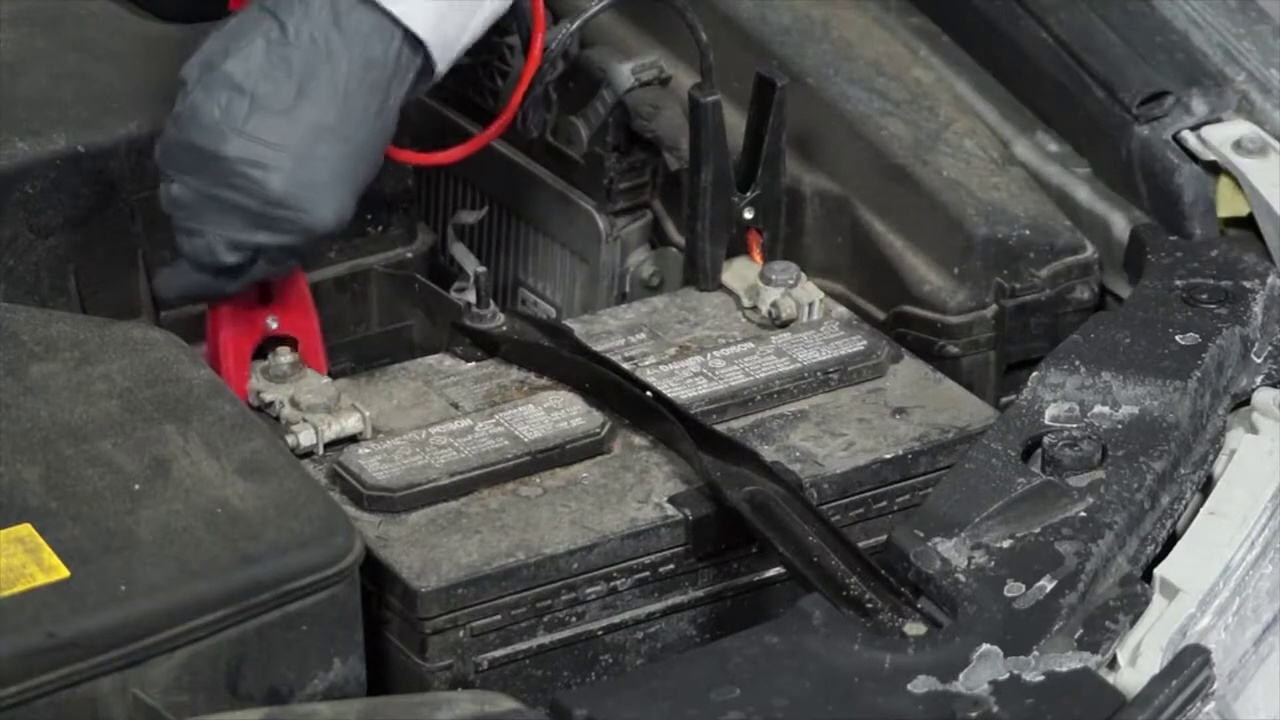battery: (233, 249, 986, 512)
neg_connected: (669, 157, 836, 314)
pos_connected: (188, 243, 379, 459)
